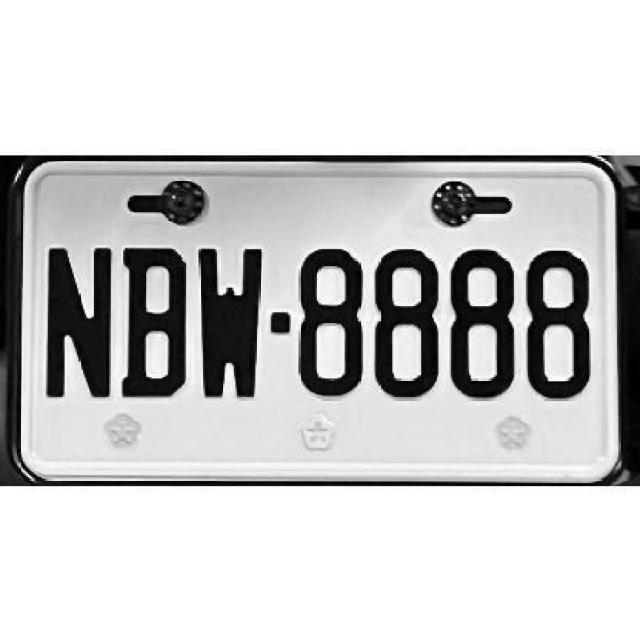-: (271, 308, 292, 332)
8: (291, 240, 366, 397), (446, 243, 520, 402), (369, 243, 443, 402), (523, 245, 592, 408)
B: (119, 242, 190, 398)
N: (42, 238, 120, 398)
W: (194, 238, 268, 402)
